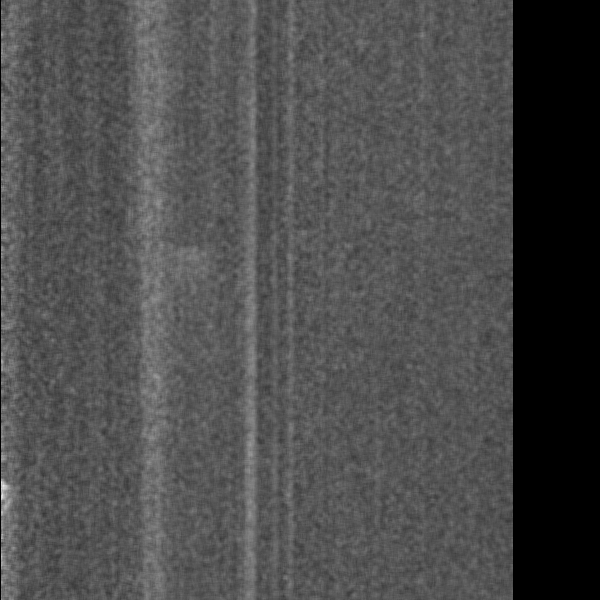spark: (175, 245, 211, 275)
